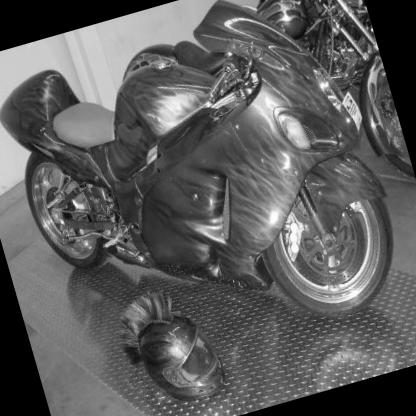moto: (1, 1, 416, 405)
